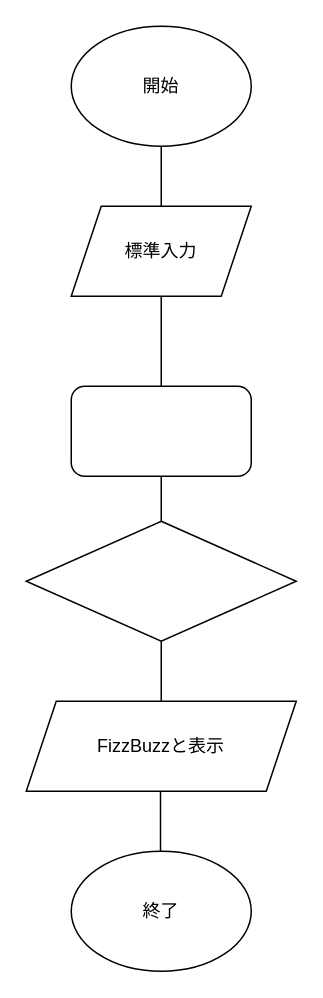
Some shapes in this 323 by 998 pixel diagram are drawn without their labels. The box of each missing label's shape, as (x1, y1, x2, y2) in pixels:
数値が3と5で割り切れるか？: (25, 520, 296, 641)
標準入力の値を数値に変換: (70, 385, 251, 476)
